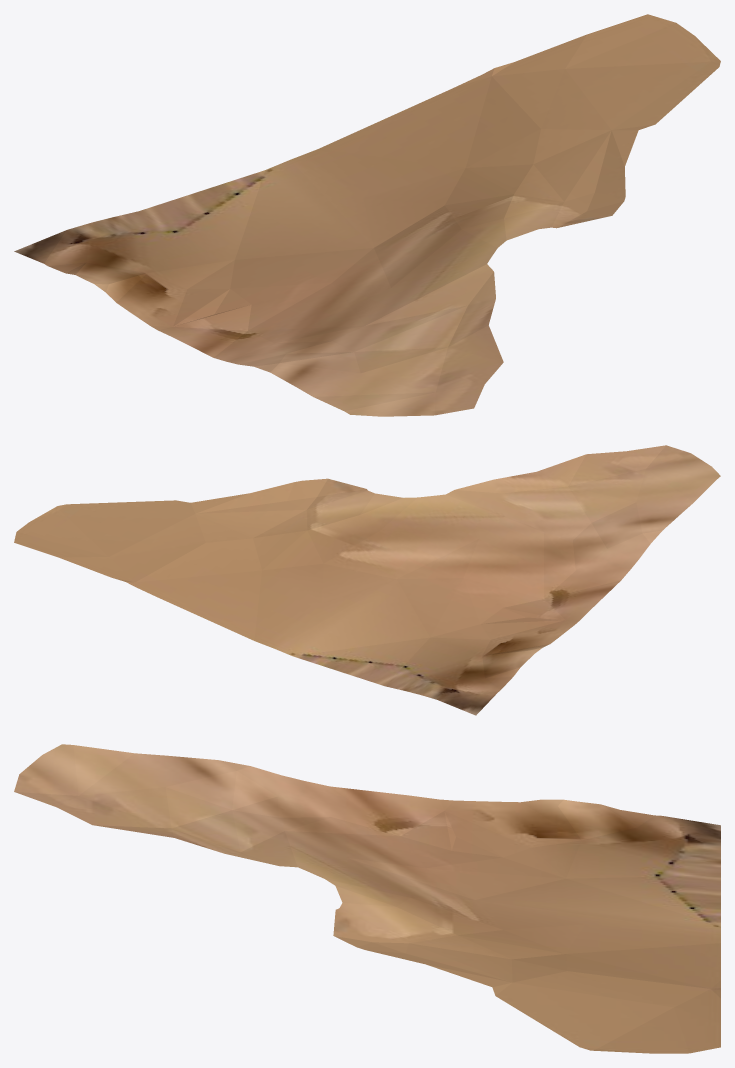
The picture shows the model from 3 angles, top to bottom: view 1: azimuth 30°, elevation 25°; view 2: azimuth 150°, elevation 25°; view 3: azimuth 270°, elevation 25°; orthographic projection. The views are drawn at different scales.
Size of the model in its own units: 0.5511 by 0.0673 by 0.532.
Materials: 1 (1 with a texture image).
